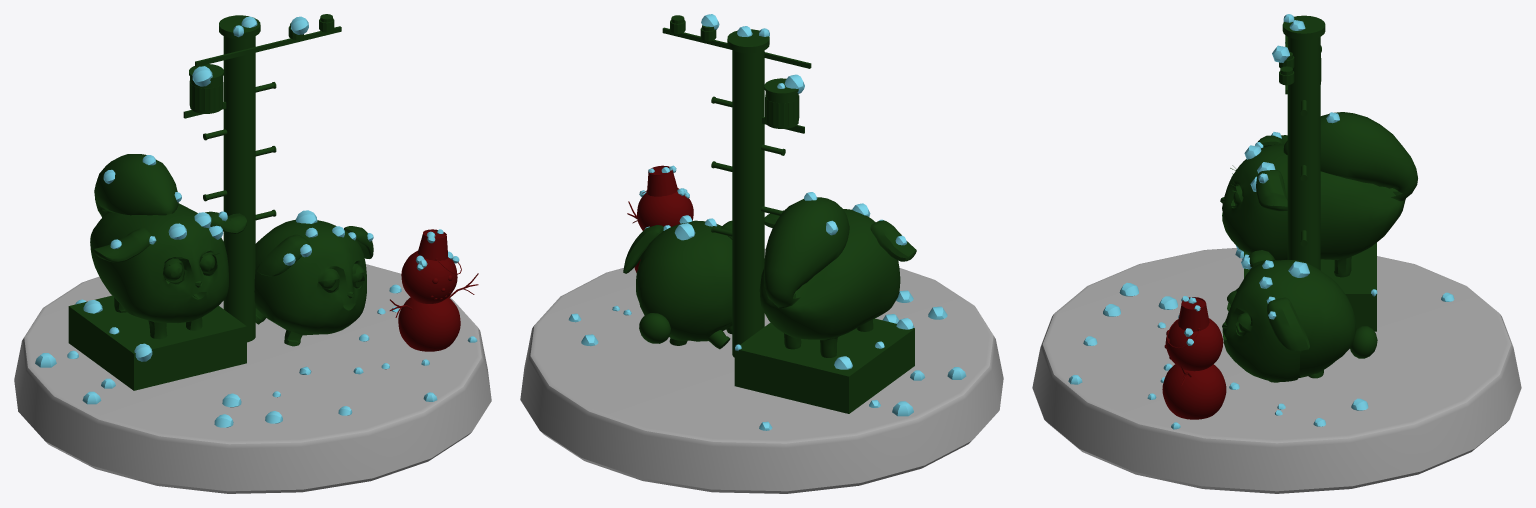
The model's file is Diorama_Yuki_02.fbx.
3 views of the same model, side by side, from view 1: azimuth 30°, elevation 25°; view 2: azimuth 150°, elevation 25°; view 3: azimuth 270°, elevation 25° (orthographic).
Parts seen in each view (by area): view 1: Diorama_Yuki; view 2: Diorama_Yuki; view 3: Diorama_Yuki.
Boxes of the visible parts, <box> form: Diorama_Yuki: <box>14,14,491,493</box>; Diorama_Yuki: <box>520,14,1003,493</box>; Diorama_Yuki: <box>1032,14,1521,493</box>.
Bounding box in the file's own units: 1471 × 1243 × 1471.
